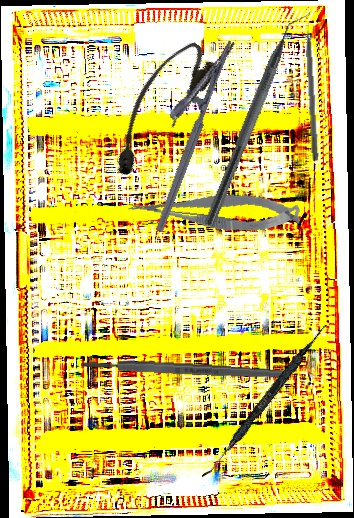Cannula: (93, 33, 224, 184)
Chopper: (203, 1, 314, 235)
Micro Scissor: (127, 178, 303, 241)
Needle Holder: (128, 30, 237, 233)
Pusher: (304, 10, 320, 162)
Scalpel Handle: (80, 357, 286, 381)
Spatula Surgical: (201, 319, 329, 484)
